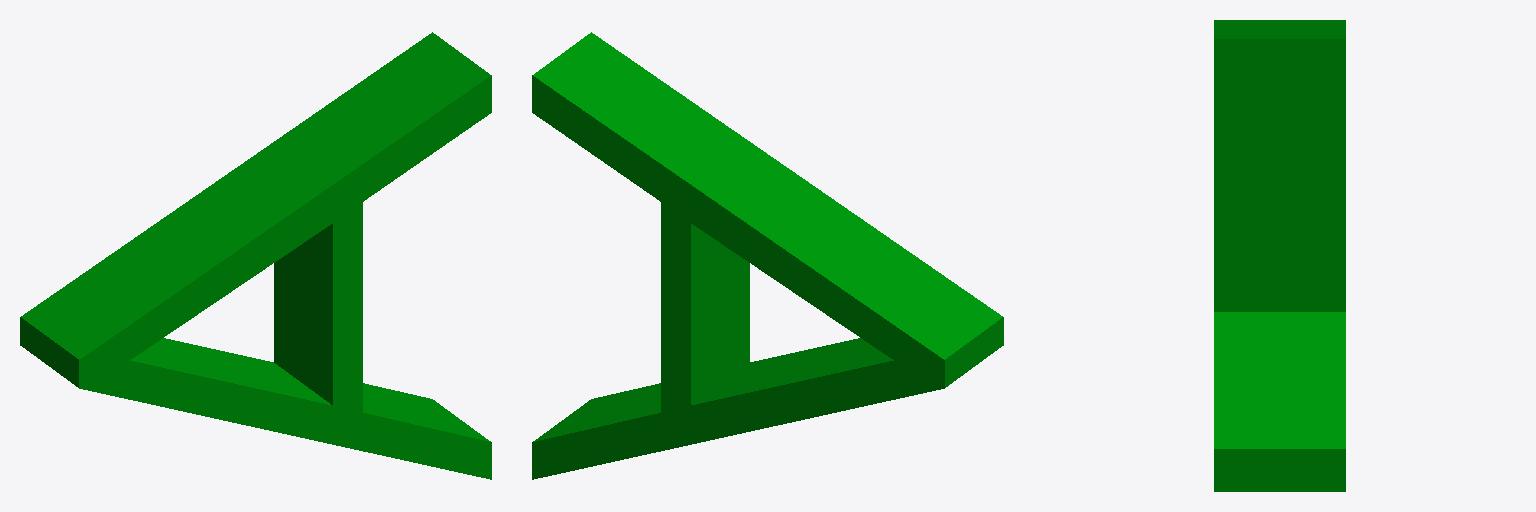
The robot description file, URDF, robot "ring":
<?xml version="0.0" ?>
<robot name="ring">
    <material name="green">
        <color rgba="0.005953 0.613846 0.061735 1"/>
    </material>

    <link name="baseLink">
        <!-- from lego/lego.urdf -->
        <contact>
            <lateral_friction value="1.0"/>
            <rolling_friction value="0.0"/>
            <contact_cfm value="0.0"/>
            <contact_erp value="1.0"/>
        </contact>
        <inertial>
            <origin rpy="0 0 0" xyz="0 0 0"/>
            <mass value="0.5"/>
            <inertia ixx="1" ixy="0" ixz="0" iyy="1" iyz="0" izz="1"/>
        </inertial>
        <visual>
            <origin rpy="0 0 0" xyz="0 0 0"/>
            <geometry>
                <!--        radius: 10mm, depth: 14.5mm-->
                <mesh filename="meshes/a.obj" scale="1 1 1"/>
                <!--        <box size="0.002 0.002 0.002"/>-->
            </geometry>
            <material name="green"/>
        </visual>
        <collision>
            <origin rpy="0 0 0" xyz="0 0 0"/>
            <geometry>
                <mesh filename="meshes/a_vhacd.obj" scale="1 1 1"/>
                       <!-- <box size="0.002 0.002 0.002"/> -->
            </geometry>
        </collision>
    </link>

</robot>

--- Facts derived from the render (not from the file) ---
3 views of the same robot in one strip: view 1: azimuth 30°, elevation 25°; view 2: azimuth 150°, elevation 25°; view 3: azimuth 270°, elevation 25° (orthographic).
Robot: ring — 1 links, 0 joints (none); root link baseLink; default pose: all joints at 0.
Visible links, largest first — view 1: baseLink; view 2: baseLink; view 3: baseLink.
Boxes of the visible links, left/top/right/bottom form: baseLink: left=20, top=32, right=491, bottom=479; baseLink: left=532, top=32, right=1003, bottom=479; baseLink: left=1214, top=20, right=1345, bottom=491.
Bounding box of the posed robot: 2.58 × 0.64 × 2.42 m (x, y, z).
Meshes: 1 distinct files referenced, 1 mesh visuals loaded (1 OBJ).